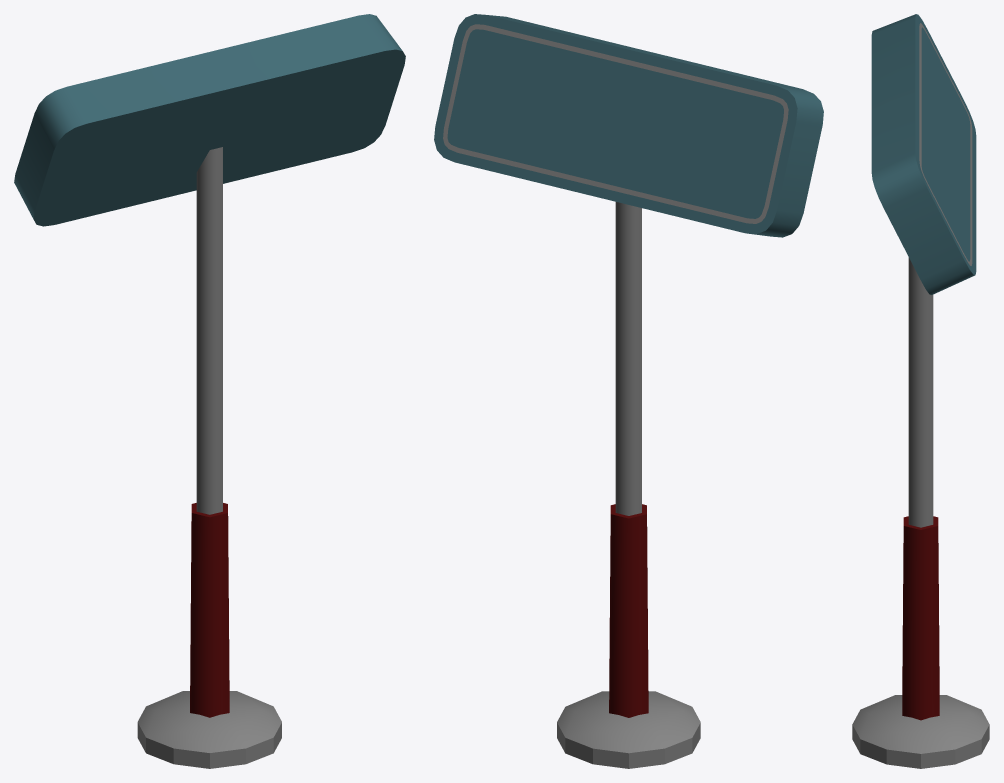
The model's file is BusStop.fbx.
The picture shows the model from 3 angles, left to right: view 1: azimuth 30°, elevation 25°; view 2: azimuth 150°, elevation 25°; view 3: azimuth 270°, elevation 25°; orthographic projection. The views are drawn at different scales.
Parts seen in each view (by area): view 1: BusStop02, BusStop01; view 2: BusStop02, BusStop01; view 3: BusStop02, BusStop01.
Boxes of the visible parts, bbox=[...] form: BusStop02: bbox=[14, 14, 405, 226]; BusStop01: bbox=[137, 147, 281, 768]; BusStop02: bbox=[434, 14, 823, 237]; BusStop01: bbox=[557, 202, 700, 768]; BusStop02: bbox=[871, 14, 976, 294]; BusStop01: bbox=[852, 257, 989, 768].
Bounding box in the file's own units: 79.99 × 150 × 28.56.
